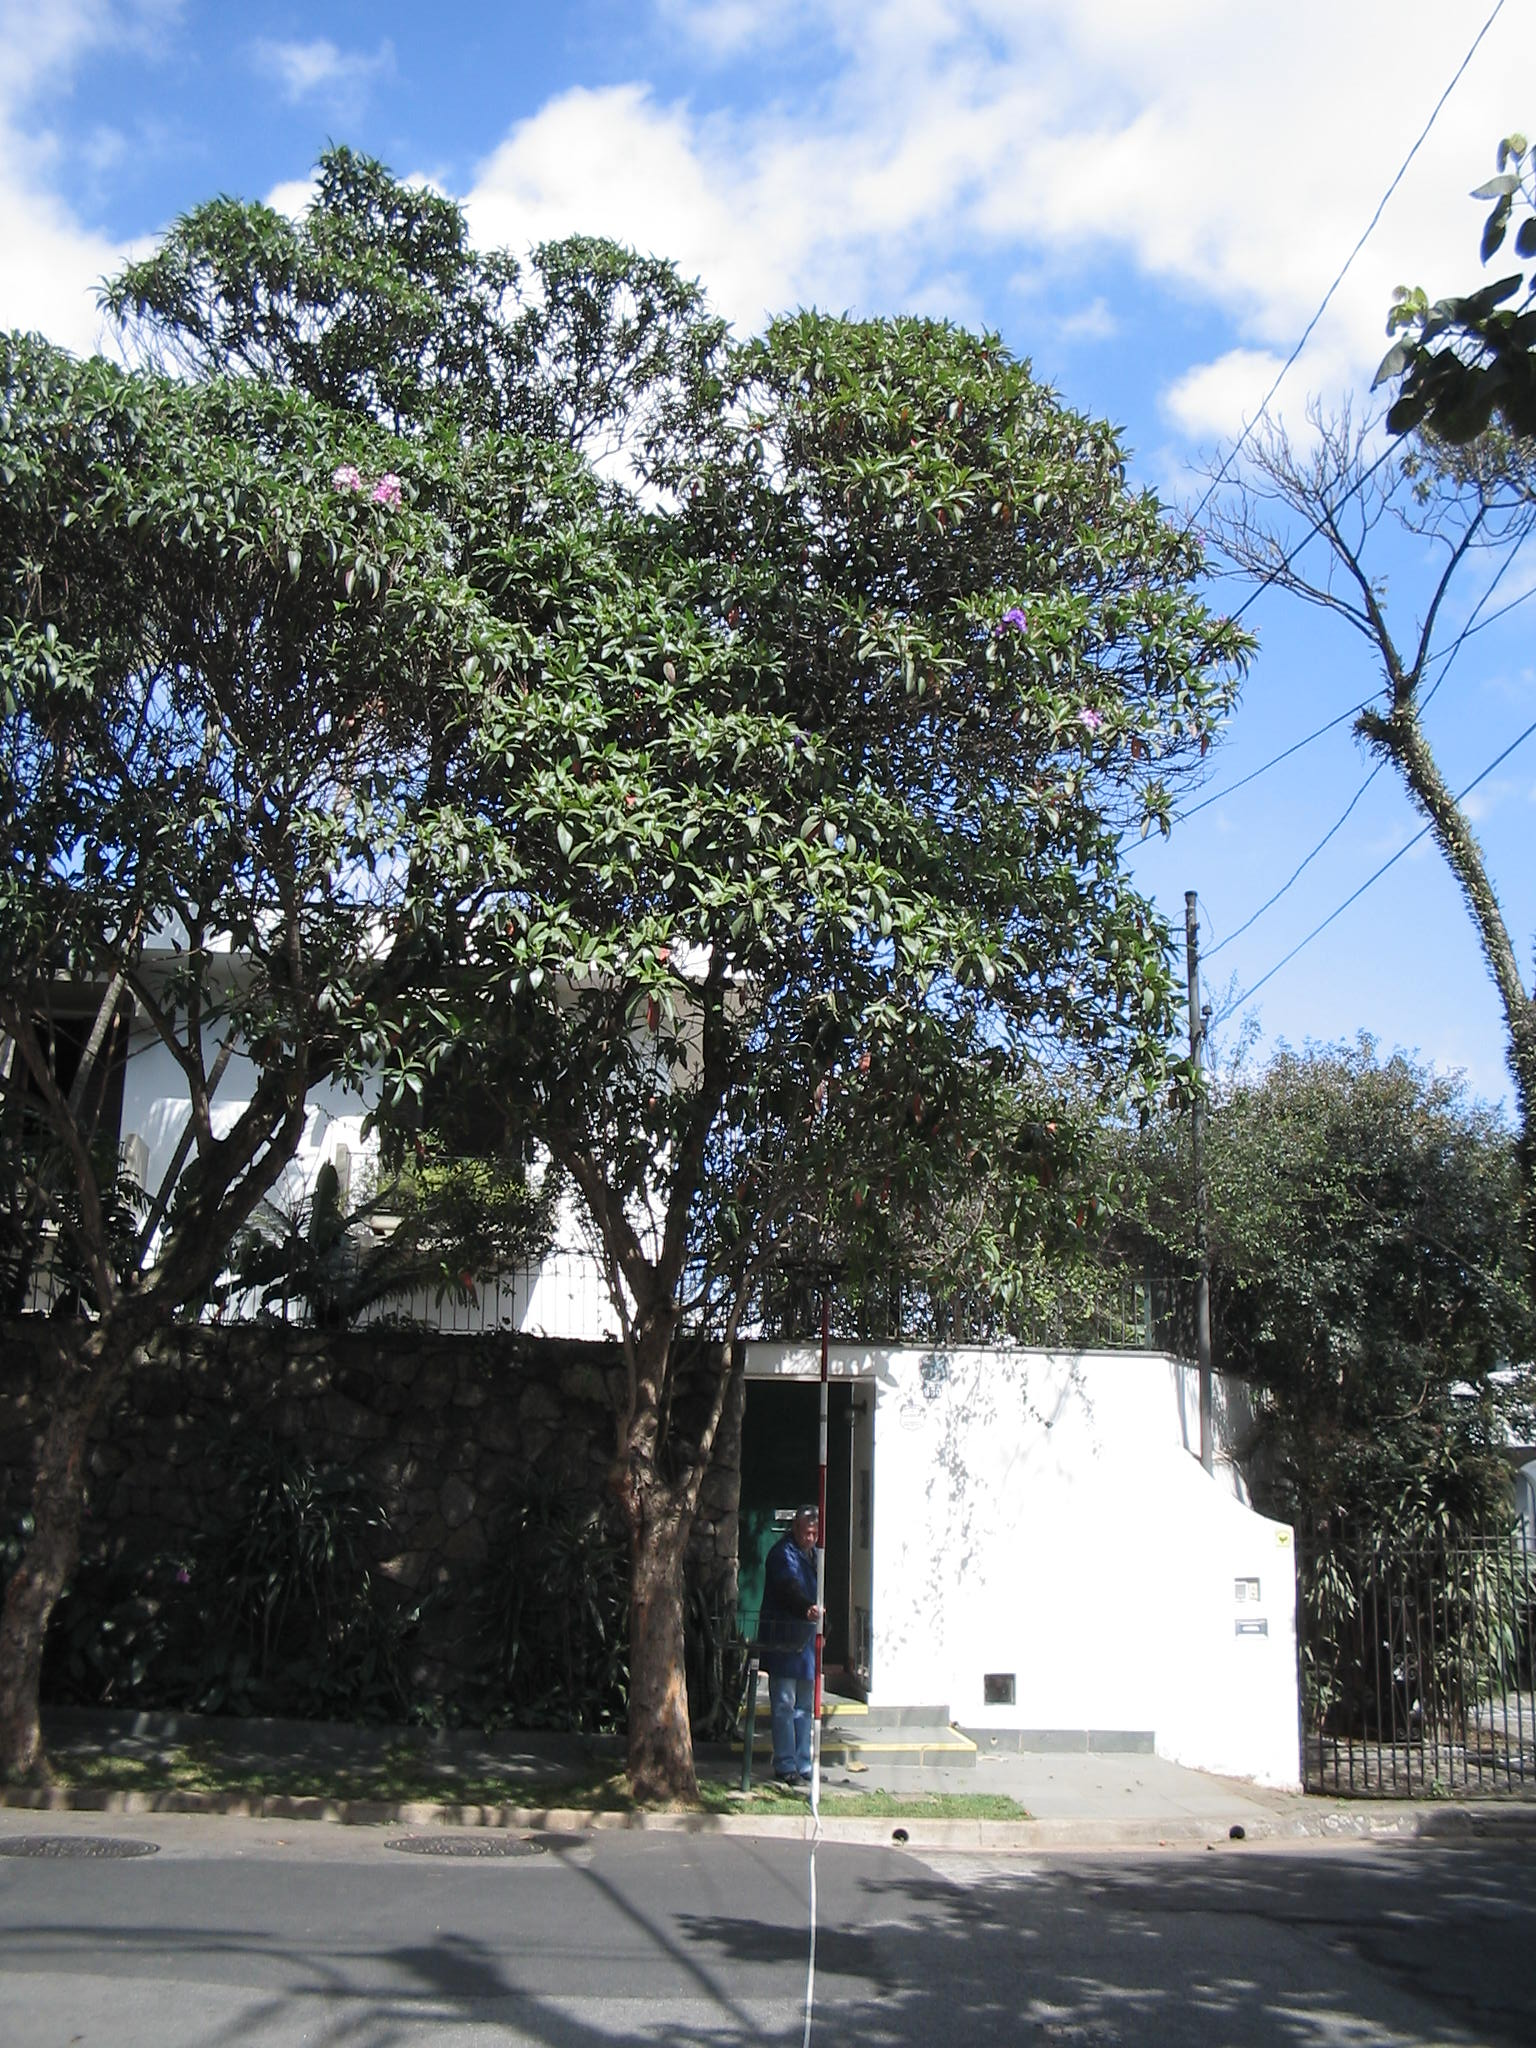crown: (127, 173, 1263, 1180), (6, 323, 784, 1105)
stem: (11, 1338, 169, 1777), (574, 1488, 724, 1804)
stick: (791, 1268, 845, 1796)
tree: (116, 168, 1263, 1801), (2, 318, 791, 1793)
